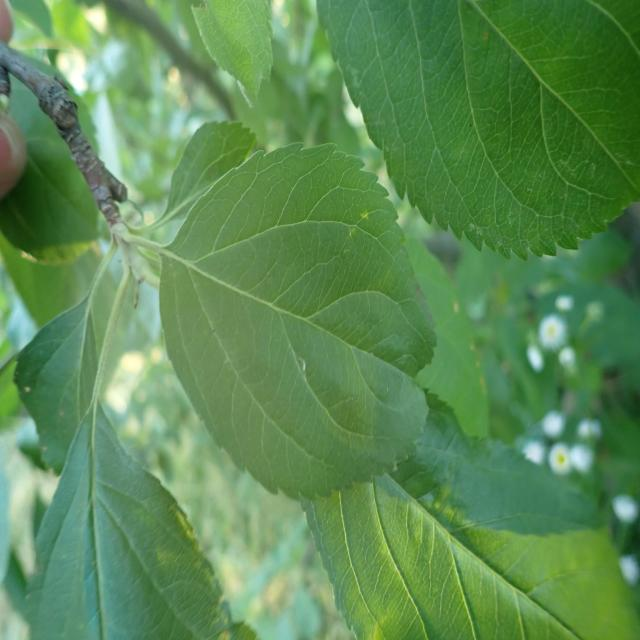healthy: (159, 142, 437, 502), (314, 0, 640, 262), (300, 473, 638, 638), (24, 400, 256, 640), (393, 387, 597, 535), (12, 291, 100, 477), (189, 0, 274, 110)
